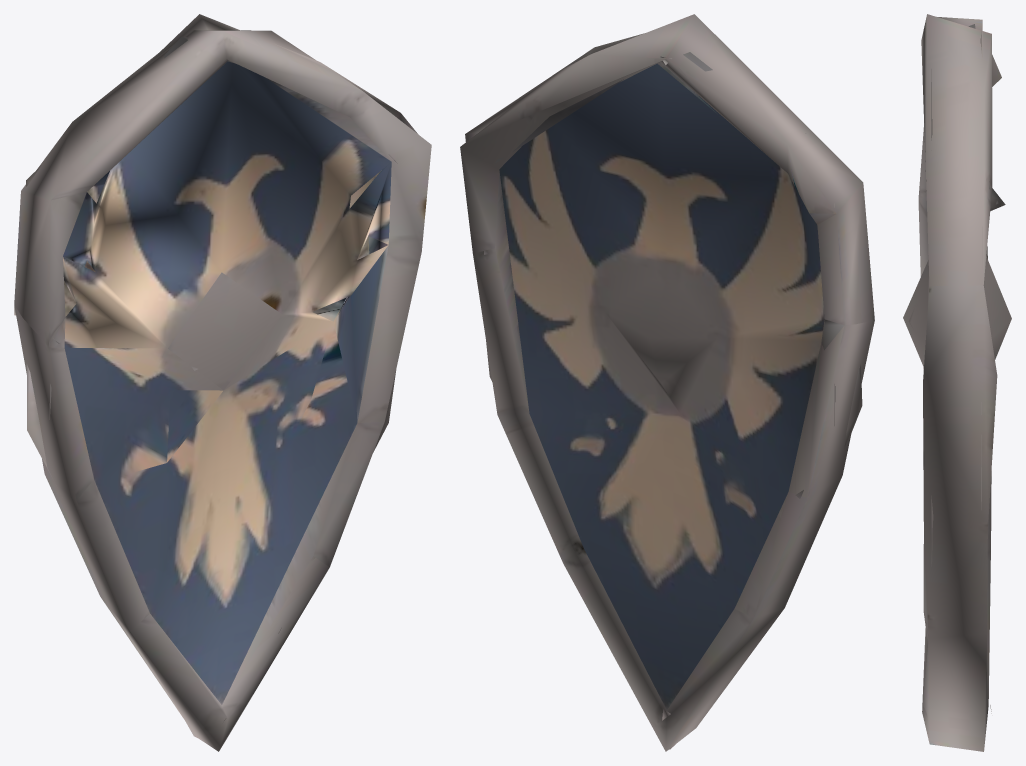
File: shield.glb
3 views of the same model, side by side, from view 1: azimuth 30°, elevation 25°; view 2: azimuth 150°, elevation 25°; view 3: azimuth 270°, elevation 25° (orthographic). The views are drawn at different scales.
Parts seen in each view (by area): view 1: shield; view 2: shield; view 3: shield.
Boxes of the visible parts, bbox=[...] form: shield: bbox=[14, 14, 431, 751]; shield: bbox=[460, 14, 874, 751]; shield: bbox=[903, 14, 1011, 751].
Bounding box in the file's own units: 0.4548 × 0.8064 × 0.108.
Materials: 1 (1 with a texture image).
